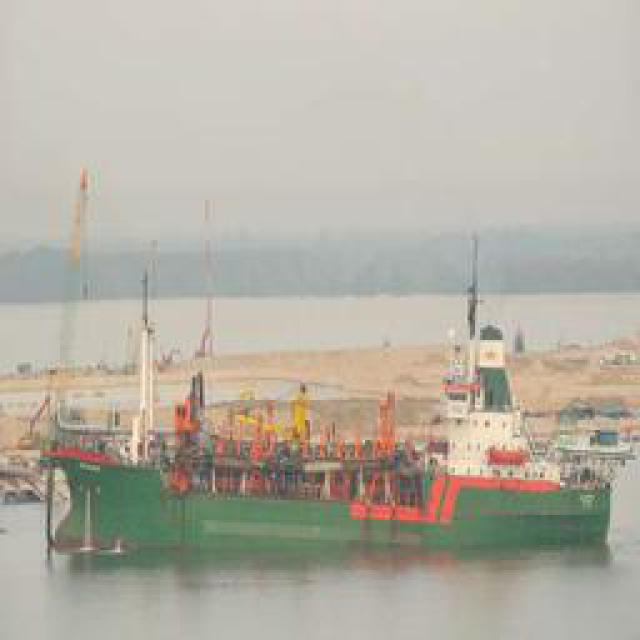Ship: (20, 368, 625, 566)
